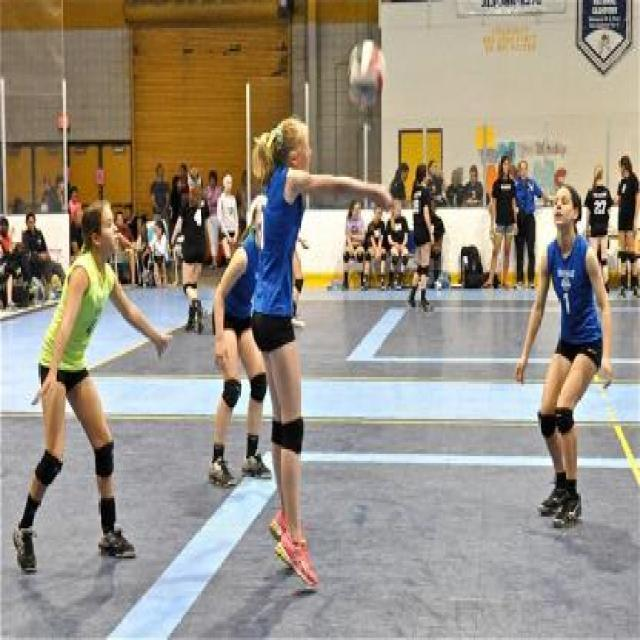volleyball: (345, 40, 388, 110)
